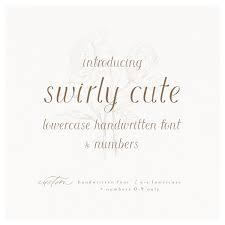text: (42, 75, 181, 114), (36, 175, 182, 187), (81, 55, 143, 71), (93, 137, 140, 150), (99, 186, 161, 193)
